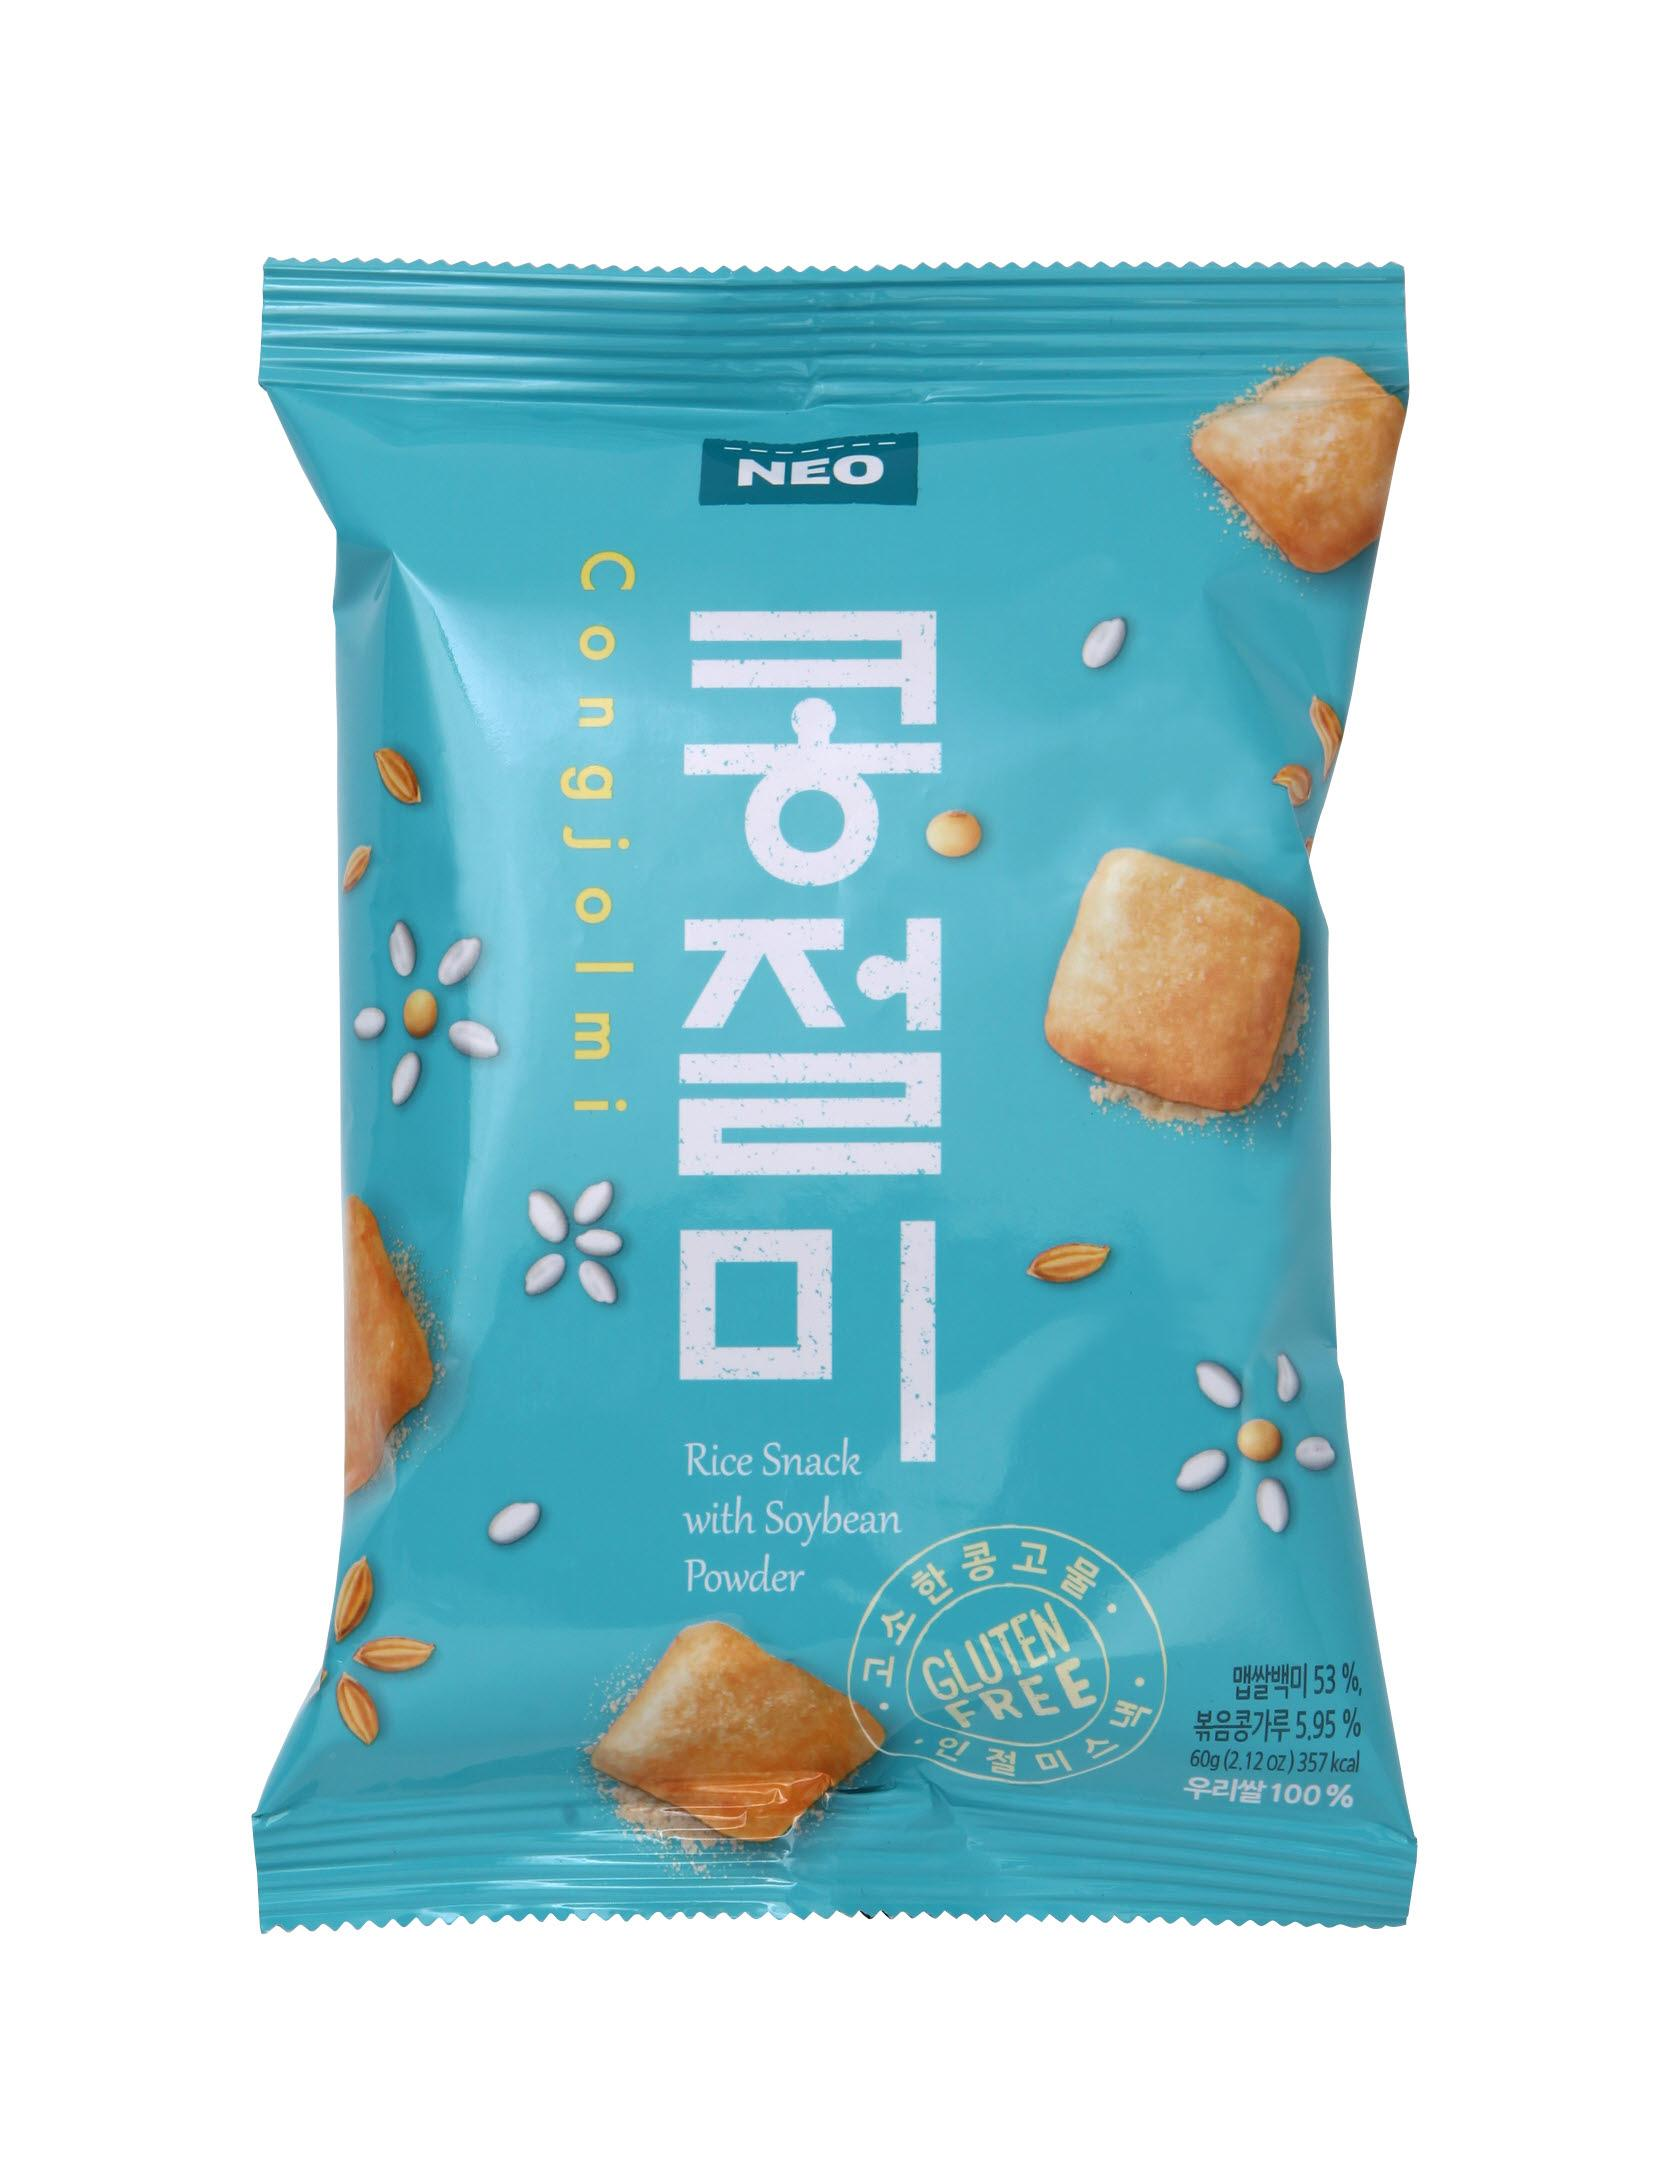snack: (247, 254, 1417, 1943)
